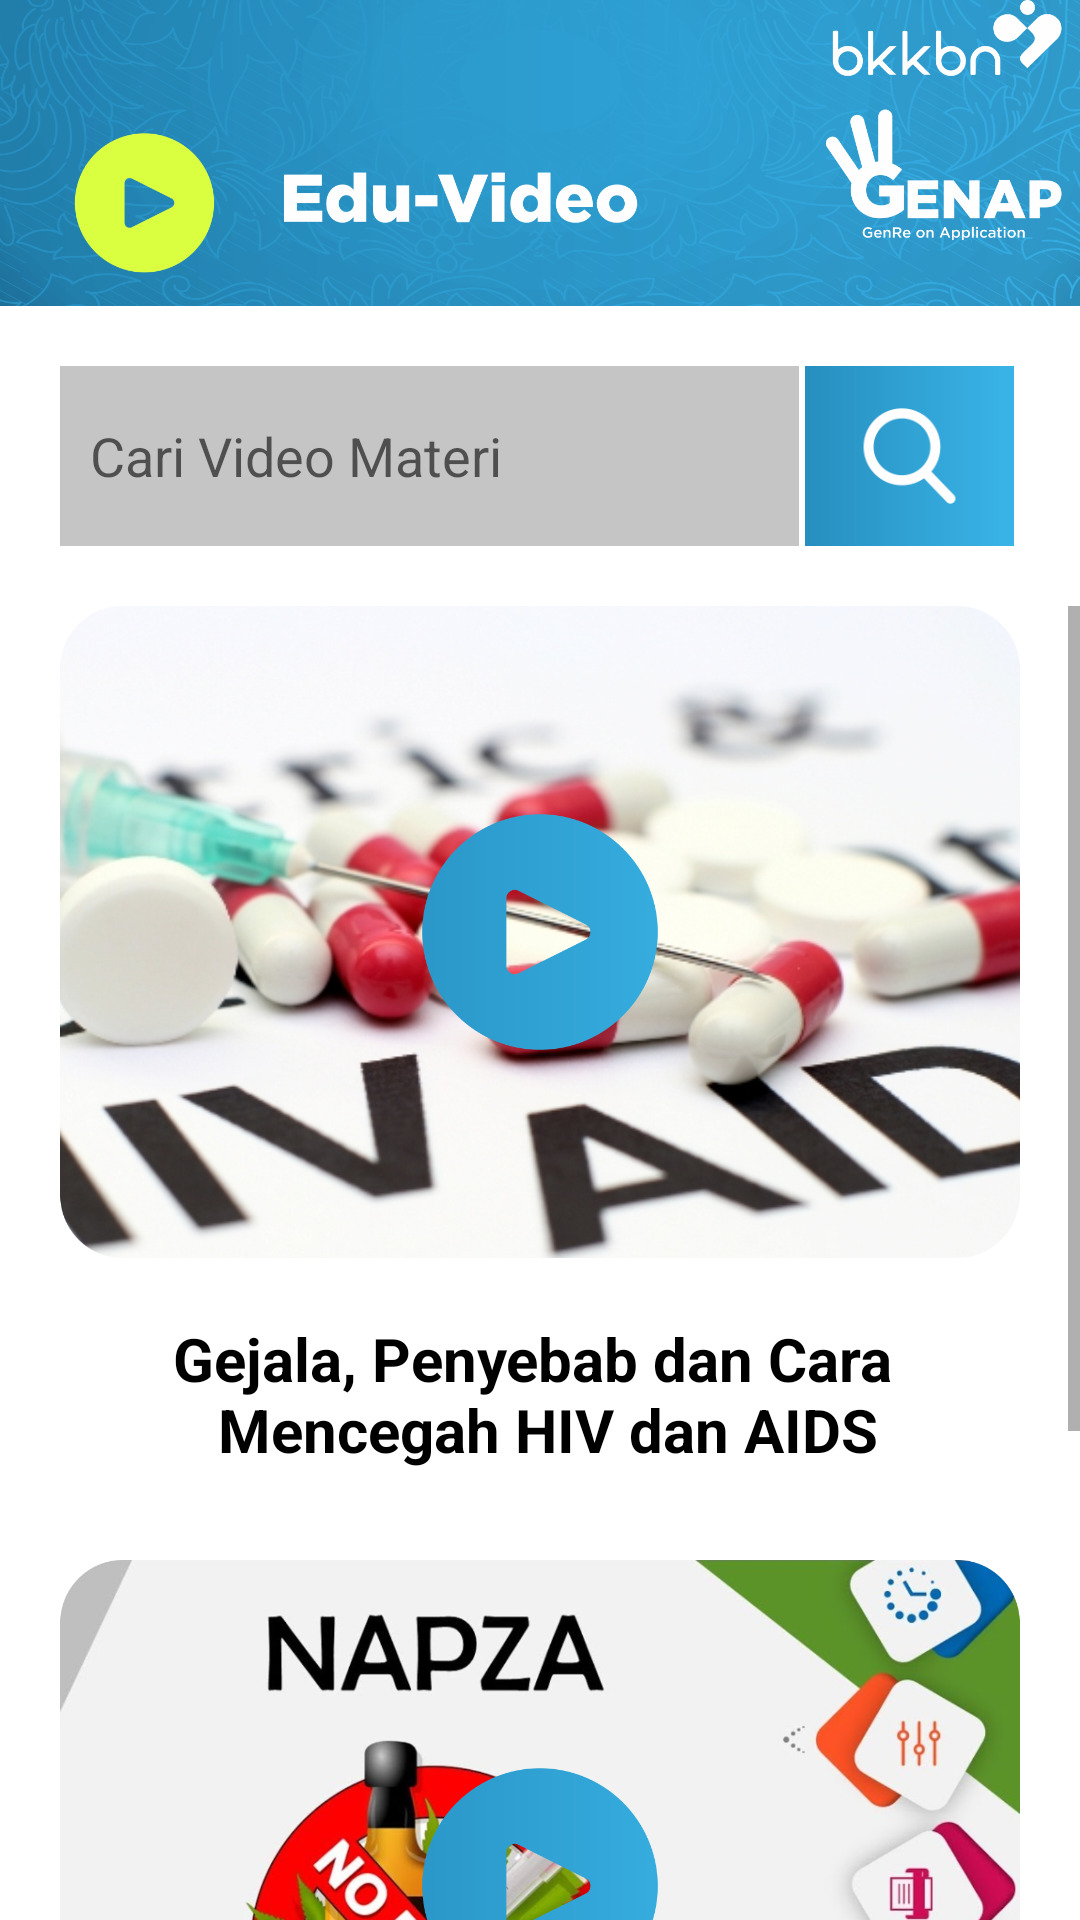

Icon bounding boxes for this 1080px x 1920px phone screenshot, format (x1, y1, x2, y2):
search: (805, 366, 1014, 546)
